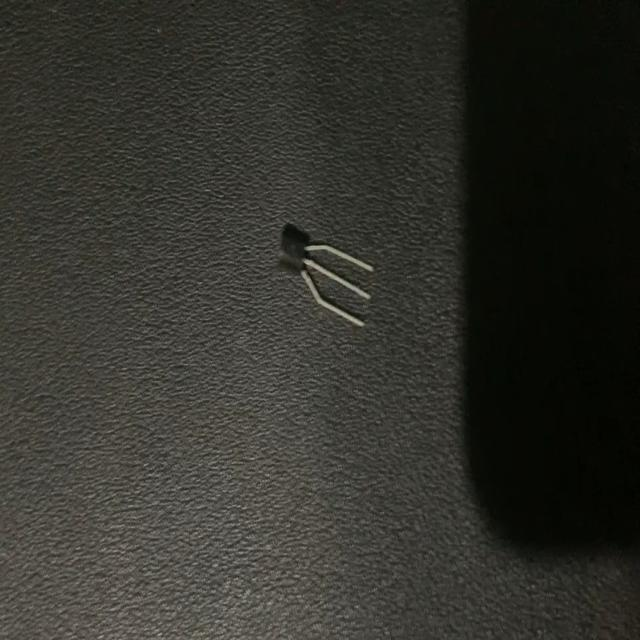BJT: (272, 215, 376, 333)
